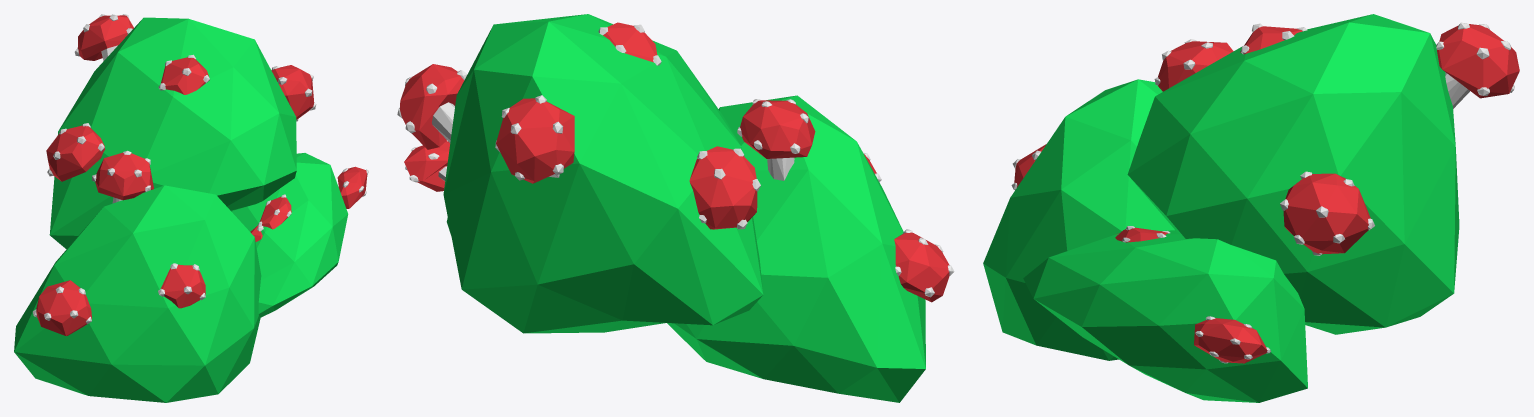
The model's file is mushroom.fbx.
3 views of the same model, side by side, from view 1: azimuth 30°, elevation 25°; view 2: azimuth 150°, elevation 25°; view 3: azimuth 270°, elevation 25° (orthographic). The views are drawn at different scales.
Visible parts, largest first — view 1: Mushroom1.008; view 2: Mushroom1.008; view 3: Mushroom1.008.
Part boxes in pixels (x1,y1,x2,y2): Mushroom1.008: (14,14,368,402); Mushroom1.008: (397,14,954,402); Mushroom1.008: (983,14,1519,402).
Size of the model in its own units: 23.37 by 16.47 by 20.84.
